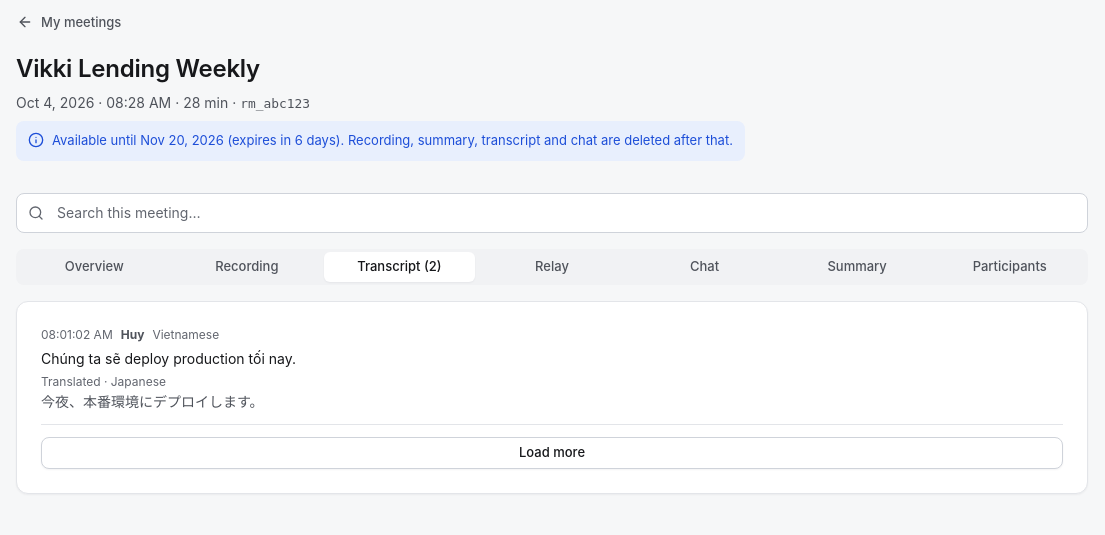
Test case: My meetings › loads the full transcript page by page with the stored translations
This screenshot has width=1105, height=535.
Expected: the text "Chúng ta sẽ deploy production tối nay." is shown, x1=41 y1=350 x2=296 y2=367
Expected: the text "今夜、本番環境にデプロイします。" is shown, x1=41 y1=393 x2=264 y2=410
Click the button "Load more" at (552, 453), box x1=41 y1=437 x2=1063 y2=469
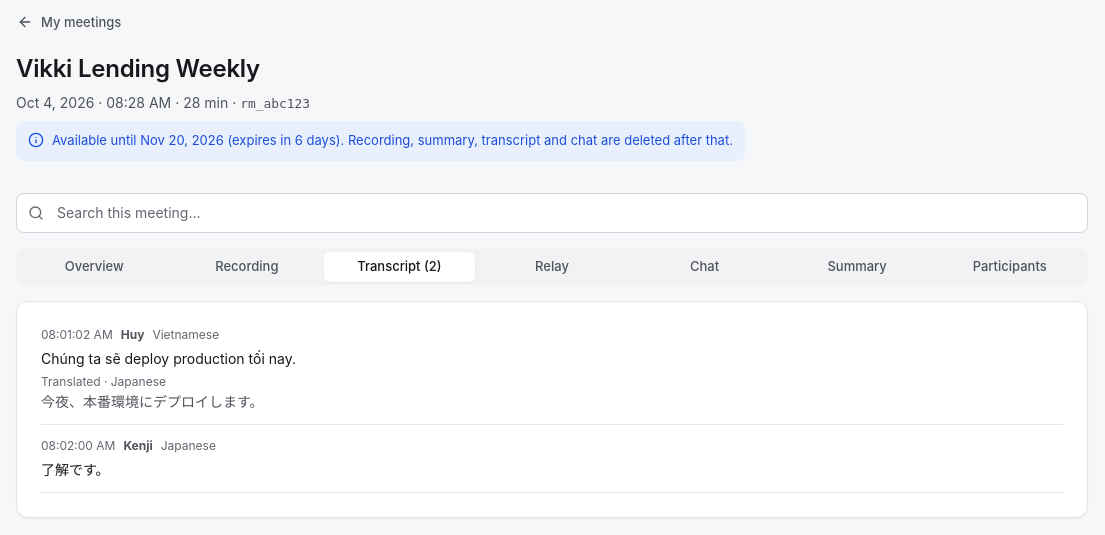
Result: the text "了解です。" is shown at x1=41 y1=461 x2=110 y2=478
Result: the button "Load more" is gone
